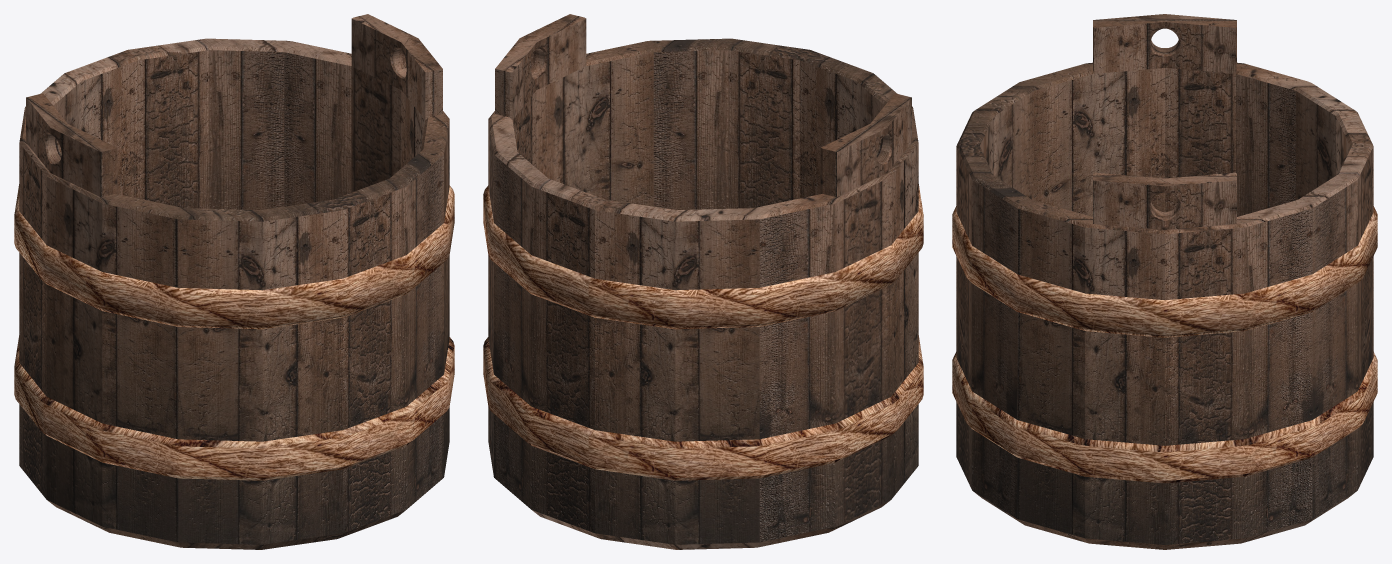
The model's file is WoodBucket.fbx.
3 views of the same model, side by side, from view 1: azimuth 30°, elevation 25°; view 2: azimuth 150°, elevation 25°; view 3: azimuth 270°, elevation 25° (orthographic). The views are drawn at different scales.
Parts seen in each view (by area): view 1: Cylinder, Cylinder.002; view 2: Cylinder, Cylinder.002; view 3: Cylinder, Cylinder.002.
Part boxes in pixels (x1,y1,x2,y2): Cylinder: [19, 14, 449, 549]; Cylinder.002: [14, 184, 454, 480]; Cylinder: [488, 14, 918, 549]; Cylinder.002: [483, 184, 923, 480]; Cylinder: [956, 14, 1373, 549]; Cylinder.002: [952, 206, 1377, 483].
Bounding box in the file's own units: 204 × 194 × 204.
